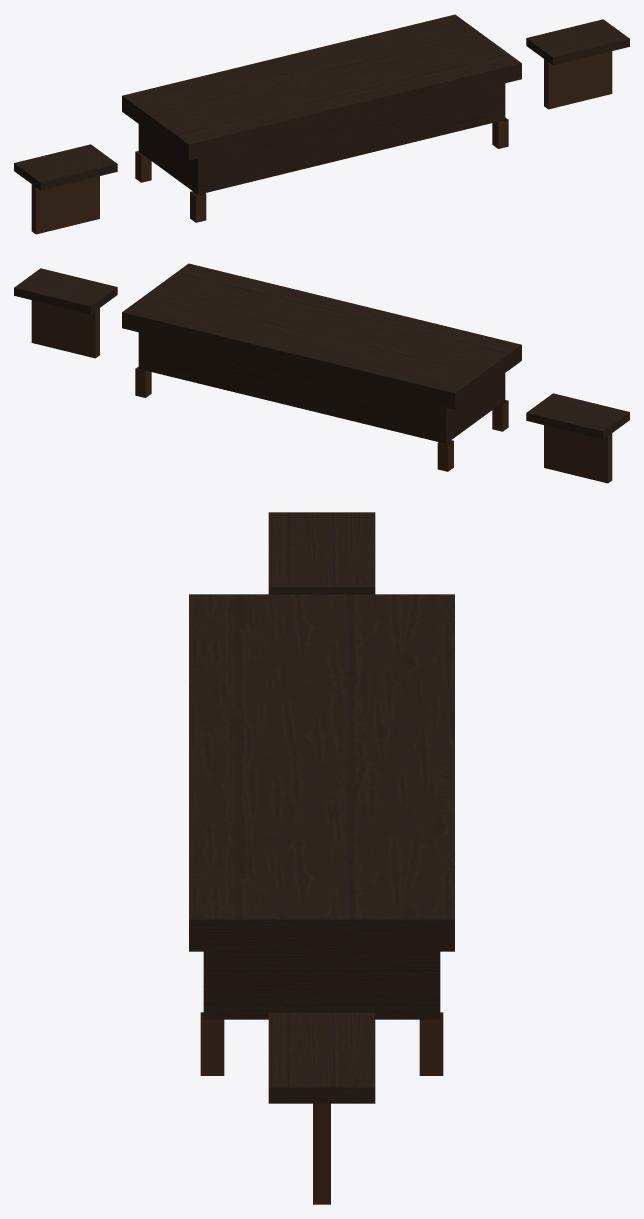
The model's file is bench_long.glb.
The picture shows the model from 3 angles, top to bottom: view 1: azimuth 30°, elevation 25°; view 2: azimuth 150°, elevation 25°; view 3: azimuth 270°, elevation 25°; orthographic projection. The views are drawn at different scales.
Parts seen in each view (by area): view 1: bench_long; view 2: bench_long; view 3: bench_long.
Boxes of the visible parts, box(x1,y1,x2,y2) form: bench_long: box(14, 14, 629, 234); bench_long: box(14, 263, 629, 483); bench_long: box(189, 512, 454, 1204).
Size of the model in its own units: 4.6 by 0.62 by 0.9.
Materials: 2 (1 with a texture image).
